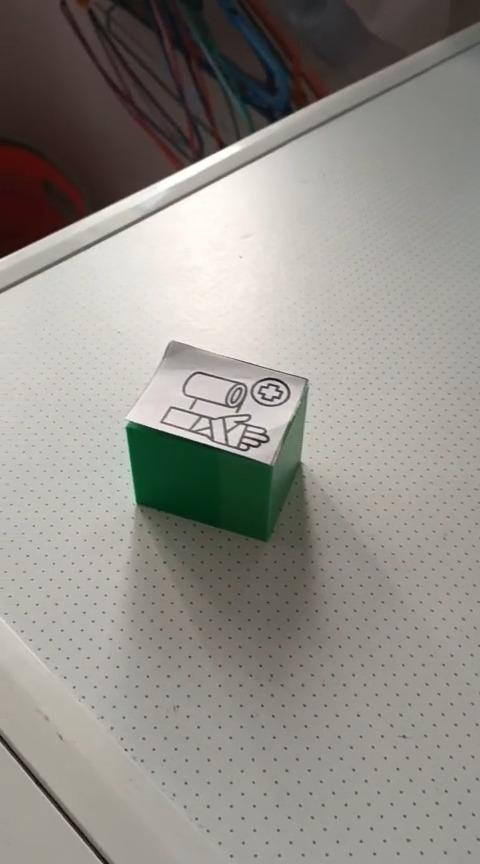Bandages: (125, 340, 308, 541)
